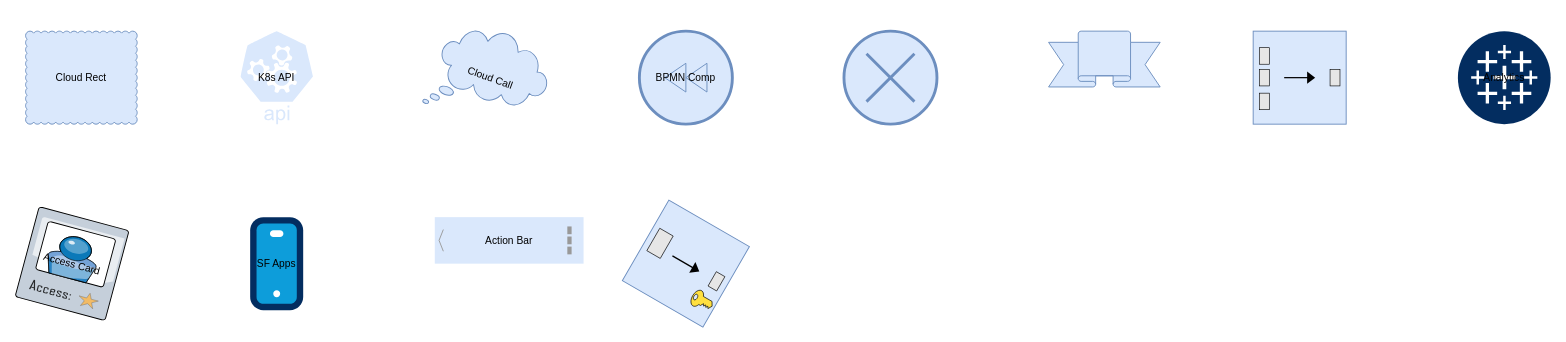
Some shapes in this 1566 by 342 pixel diagram are drawn without their labels. The centre of each missing label's shape, as x and y in pixels:
"Aggregator" goes at (x=1299, y=77).
"Banner" goes at (x=1104, y=58).
"BPMN Cancel" goes at (x=890, y=77).
"Claim Check" goes at (x=685, y=263).
